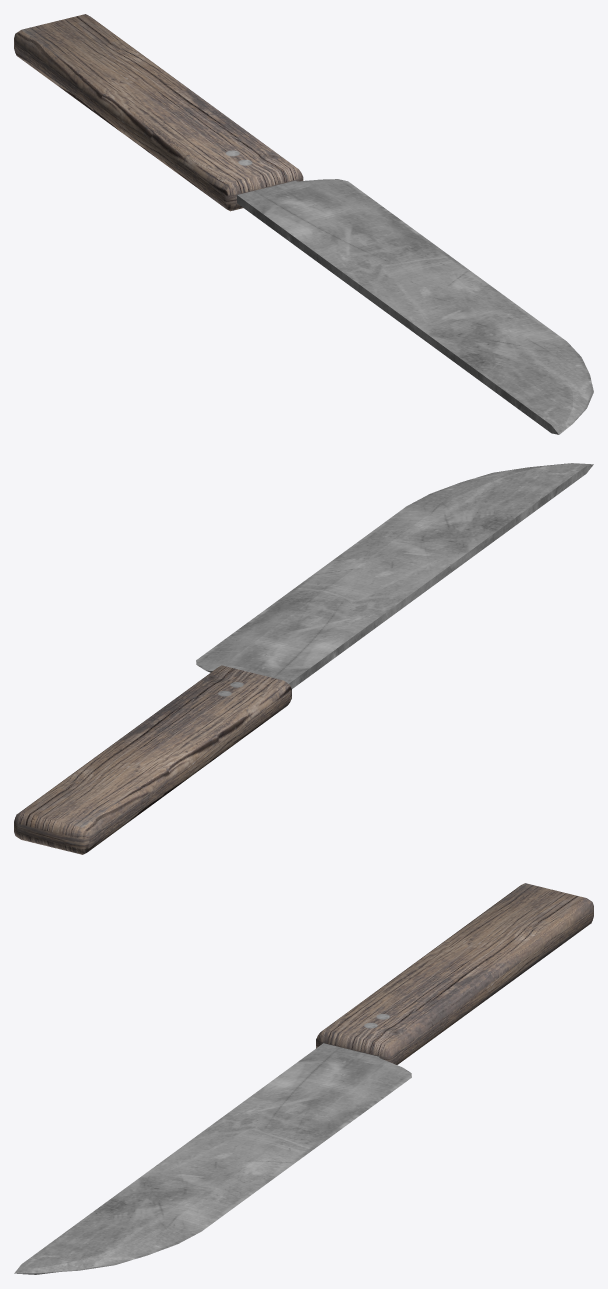
Rendered from knife_01.fbx.
3 renders of one model, top to bottom at view 1: azimuth 30°, elevation 25°; view 2: azimuth 150°, elevation 25°; view 3: azimuth 330°, elevation 25°, orthographic. The views are drawn at different scales.
Parts seen in each view (by area): view 1: knife_01; view 2: knife_01; view 3: knife_01.
Part boxes in pixels (x1,y1,x2,y2): knife_01: (14, 14, 593, 434); knife_01: (14, 463, 593, 854); knife_01: (14, 883, 593, 1274).
Size of the model in its own units: 13.87 by 3.42 by 116.
